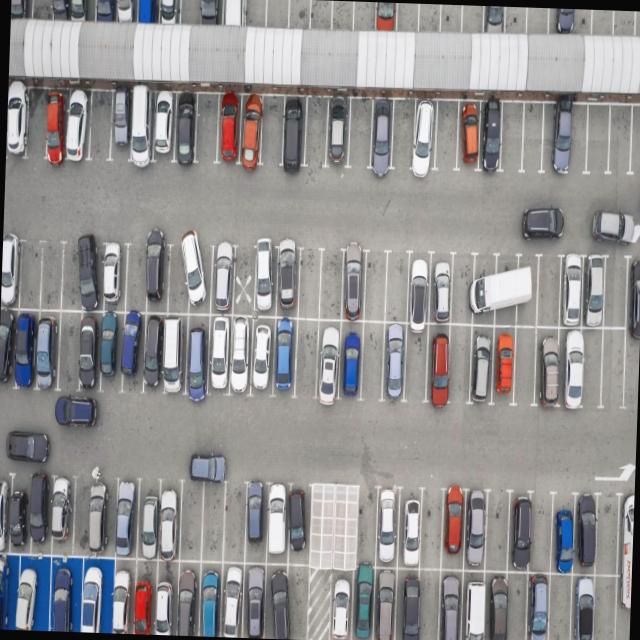car: (556, 326, 596, 406), (7, 554, 45, 630), (75, 554, 112, 630), (46, 556, 82, 632), (180, 238, 214, 315), (66, 240, 102, 312), (544, 101, 577, 176), (489, 253, 522, 327), (422, 324, 452, 404), (248, 316, 278, 396), (156, 479, 186, 559), (534, 328, 564, 407), (194, 560, 226, 634), (184, 314, 212, 396), (30, 310, 59, 389), (208, 240, 238, 316), (218, 560, 248, 636), (438, 487, 466, 568), (314, 316, 342, 397), (408, 100, 439, 173), (25, 556, 55, 631), (468, 322, 496, 402), (120, 312, 148, 392), (336, 318, 364, 398), (397, 487, 425, 567), (204, 314, 232, 394), (158, 313, 186, 393), (48, 472, 76, 552), (22, 470, 50, 550), (86, 475, 114, 555), (460, 568, 491, 640), (558, 254, 588, 328), (148, 561, 178, 635), (270, 316, 298, 395), (489, 323, 517, 402), (224, 316, 252, 394), (372, 486, 399, 566), (98, 308, 124, 391), (148, 90, 177, 164), (172, 560, 201, 634), (381, 321, 408, 400), (463, 491, 490, 570), (454, 100, 484, 171), (404, 253, 434, 324), (110, 557, 138, 633), (262, 561, 290, 637), (130, 558, 158, 633), (254, 240, 282, 315), (128, 89, 156, 164), (436, 568, 465, 640), (472, 252, 501, 324), (242, 484, 268, 564), (114, 478, 140, 558), (134, 478, 160, 558), (214, 92, 242, 166), (242, 562, 270, 636), (510, 255, 538, 329), (338, 252, 368, 321), (100, 243, 130, 312), (12, 307, 38, 386), (272, 244, 300, 317), (578, 254, 606, 327), (506, 494, 532, 572), (283, 487, 310, 562), (551, 497, 578, 572), (368, 565, 395, 640), (368, 99, 396, 171), (279, 96, 307, 168), (237, 95, 265, 167), (172, 93, 200, 165), (64, 88, 92, 160), (393, 566, 420, 640), (264, 484, 290, 560), (426, 254, 454, 324), (323, 98, 351, 168), (329, 570, 357, 640), (80, 312, 104, 392), (347, 568, 373, 640), (142, 313, 166, 391), (572, 498, 596, 576), (525, 571, 552, 640), (566, 571, 593, 640), (478, 104, 504, 174), (145, 240, 170, 312), (8, 472, 31, 550), (44, 88, 68, 162), (482, 573, 508, 640), (110, 90, 134, 162), (82, 239, 106, 310), (0, 552, 21, 629), (6, 85, 28, 158), (1, 237, 22, 308), (616, 493, 634, 574), (614, 571, 631, 640), (0, 307, 14, 385), (550, 8, 591, 34), (627, 255, 640, 330), (0, 553, 11, 629), (0, 476, 10, 555), (372, 1, 397, 32), (483, 6, 508, 33), (197, 0, 222, 25), (219, 0, 244, 25), (156, 0, 181, 24), (135, 0, 160, 24), (94, 0, 119, 23), (114, 0, 138, 23), (67, 0, 92, 22), (10, 0, 32, 20), (50, 0, 70, 20)
free: (222, 482, 250, 565), (444, 324, 473, 404), (56, 311, 84, 392), (402, 324, 431, 402), (280, 563, 310, 638), (600, 328, 628, 408), (200, 482, 228, 562), (176, 481, 204, 560), (513, 326, 542, 402), (358, 320, 386, 398), (290, 320, 318, 398), (484, 493, 511, 572), (417, 489, 443, 571), (352, 488, 378, 570), (228, 242, 256, 318), (412, 567, 441, 640), (431, 100, 460, 172), (193, 92, 222, 164), (603, 254, 631, 328), (260, 92, 288, 166), (529, 495, 555, 574), (534, 256, 562, 328), (346, 96, 374, 168), (580, 327, 605, 407), (382, 253, 410, 324), (448, 254, 476, 325), (545, 570, 573, 640), (316, 251, 344, 321), (293, 250, 321, 320), (302, 98, 330, 168), (608, 106, 636, 176), (389, 100, 416, 172), (88, 90, 115, 162), (360, 253, 388, 322), (594, 496, 618, 576), (72, 476, 96, 556), (498, 99, 524, 172), (520, 101, 546, 173), (585, 106, 611, 176), (124, 243, 150, 312), (26, 88, 50, 162), (504, 572, 530, 640), (593, 572, 619, 640), (38, 242, 64, 308), (18, 242, 44, 308), (167, 240, 190, 312), (566, 102, 588, 175), (310, 490, 330, 568), (622, 330, 640, 407), (329, 0, 354, 31), (629, 103, 640, 173), (351, 1, 376, 31), (394, 2, 419, 32), (309, 0, 334, 30), (460, 5, 486, 33), (417, 4, 442, 32), (525, 7, 549, 35), (264, 0, 288, 28), (287, 0, 310, 29), (440, 5, 464, 32), (503, 6, 526, 34), (178, 0, 202, 26), (611, 10, 635, 36), (244, 0, 267, 27), (591, 10, 614, 34), (31, 0, 54, 20), (634, 11, 640, 35)
